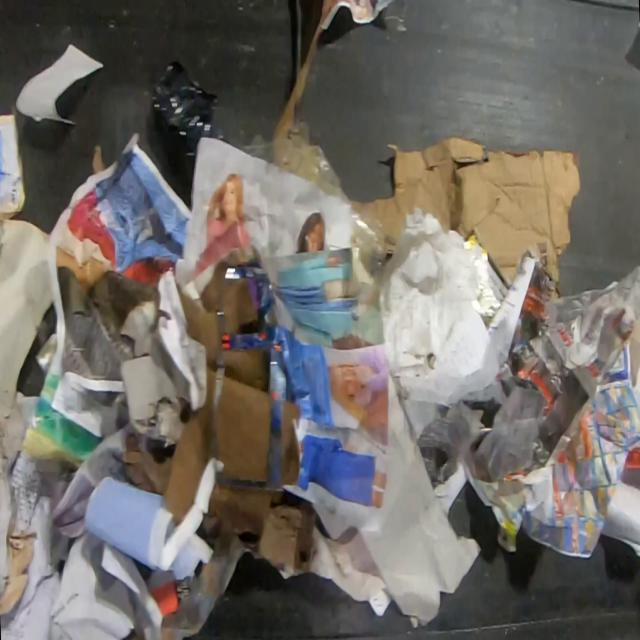cardboard: (124, 246, 335, 579), (348, 135, 582, 299), (0, 217, 55, 477)
rigid_plastic: (152, 60, 228, 194)
soft_plastic: (239, 119, 349, 201), (350, 204, 388, 286)
